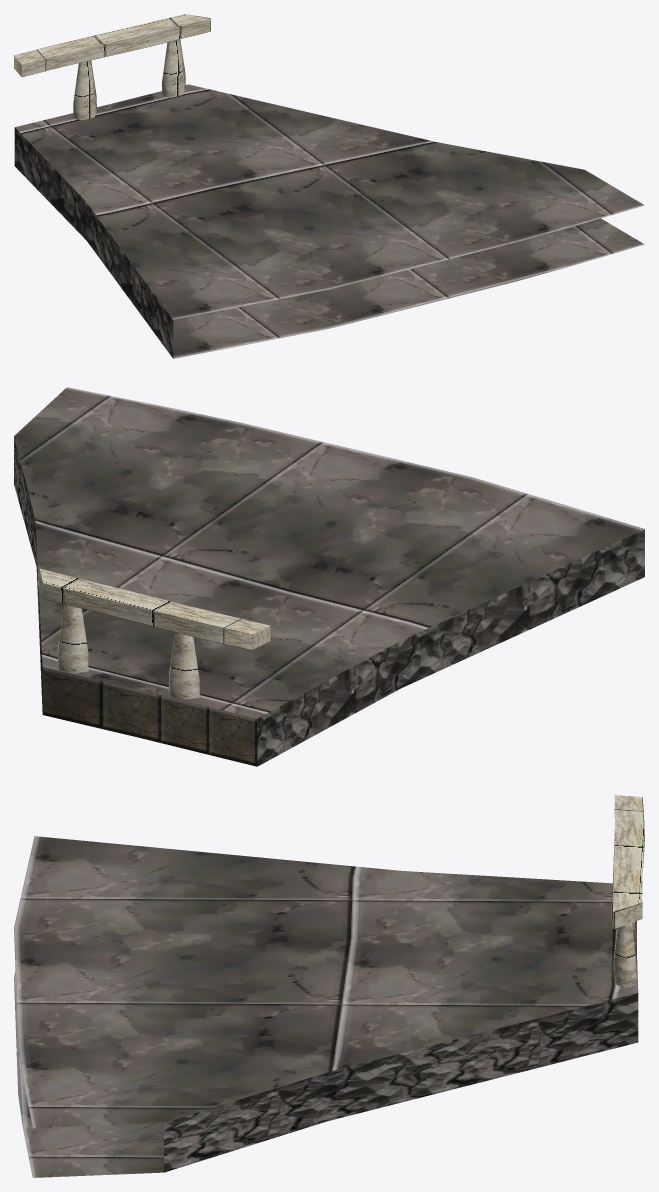
File: INST_SM_WALKWAY_BROKENA.fbx
3 views of the same model, one above another, from view 1: azimuth 30°, elevation 25°; view 2: azimuth 150°, elevation 25°; view 3: azimuth 270°, elevation 25° (orthographic). The views are drawn at different scales.
Visible parts, largest first — view 1: INST_SM_WALKWAY_BROKENA; view 2: INST_SM_WALKWAY_BROKENA; view 3: INST_SM_WALKWAY_BROKENA.
Boxes of the visible parts, x1,y1,x2,y2 form: INST_SM_WALKWAY_BROKENA: (14,14,644,358); INST_SM_WALKWAY_BROKENA: (14,387,644,766); INST_SM_WALKWAY_BROKENA: (14,795,644,1177).
Size of the model in its own units: 76993 by 16994 by 70272.
4 materials, 4 textured.
